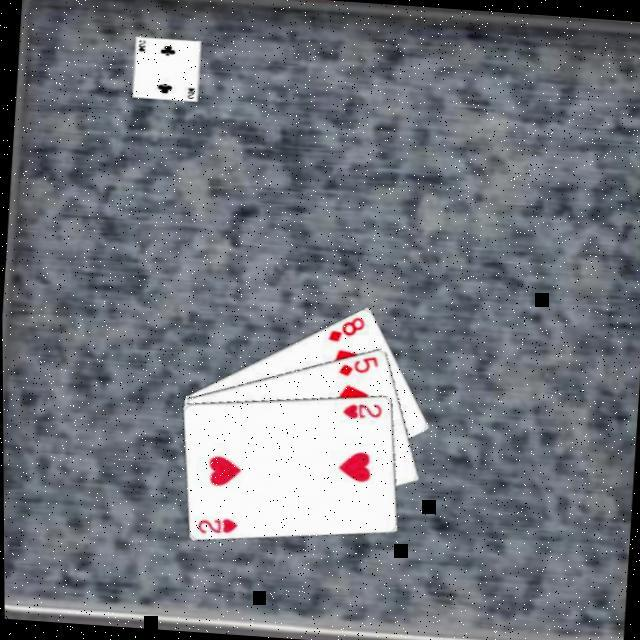2H: (338, 397, 384, 421), (193, 512, 239, 536)
5D: (334, 348, 380, 379)
8D: (324, 310, 366, 345)
